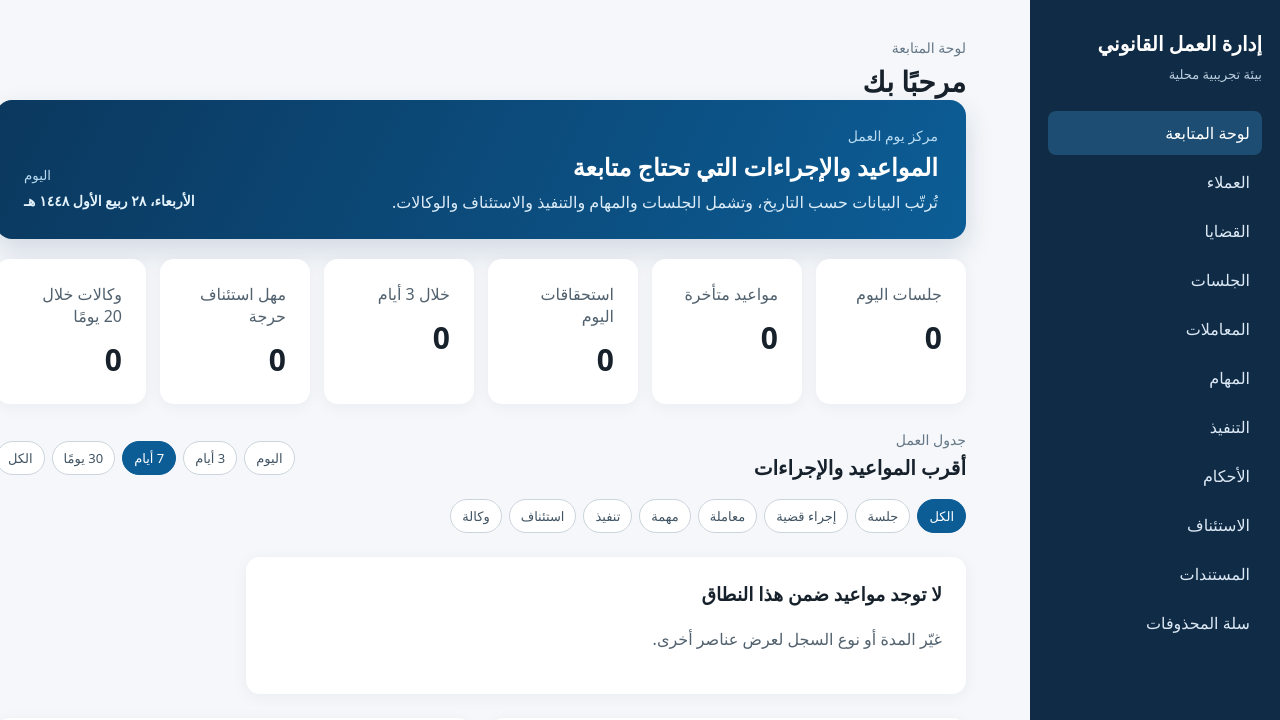
Test case: واجهة التطبيق › تعرض فهرس المستندات ونموذج الربط بسجلات التطبيق
Click the button "المستندات".
click(1155, 574)  # box [1048, 552, 1262, 596]
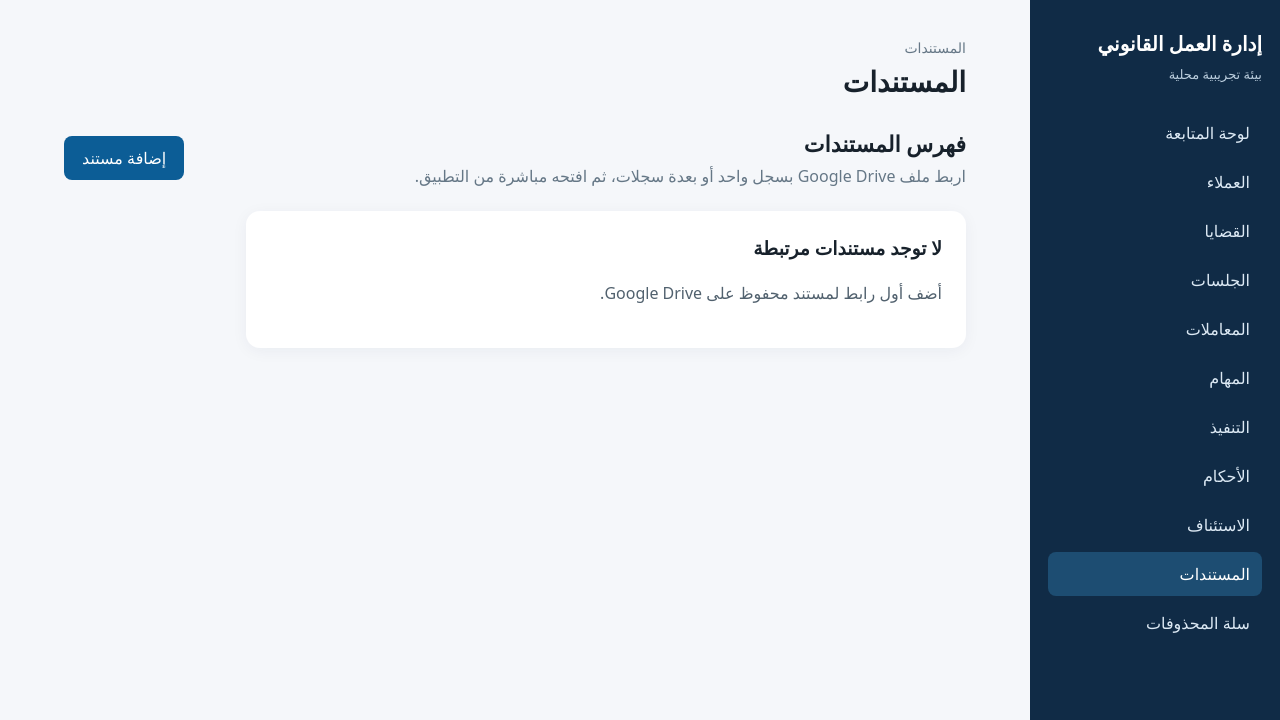
Expected: the text "فهرس المستندات" is shown, [804, 128, 966, 158]
Click the button "إضافة مستند".
click(124, 158)  # box [64, 136, 184, 180]
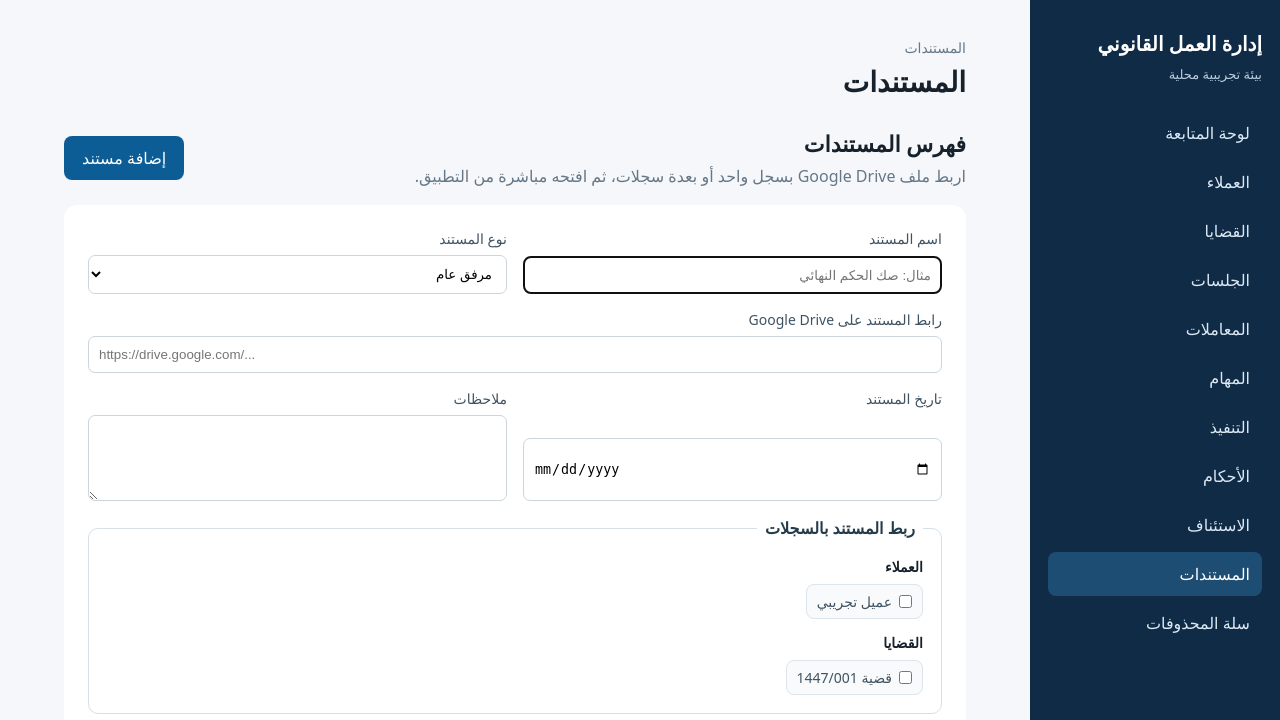
Expected: the text "رابط المستند على Google Drive" is shown, [88, 310, 942, 373]
Expected: the text "ربط المستند بالسجلات" is shown, [757, 517, 923, 539]
Expected: the text "عميل تجريبي" is shown, [806, 584, 923, 619]
